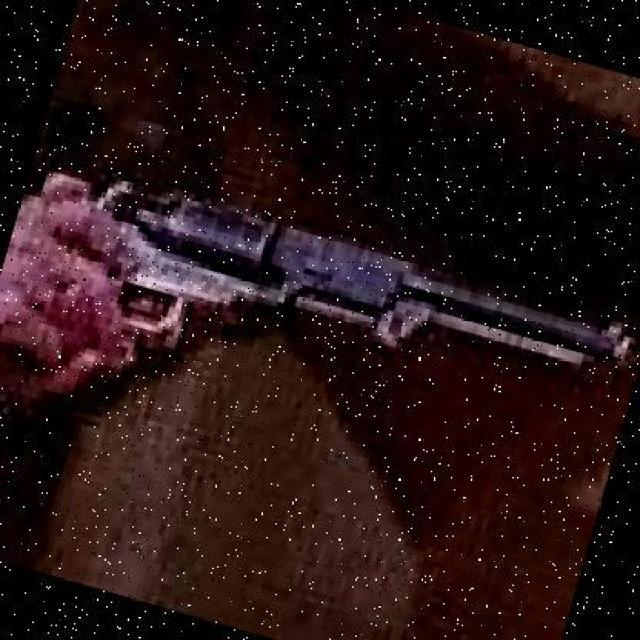rifle: (90, 174, 640, 392)
